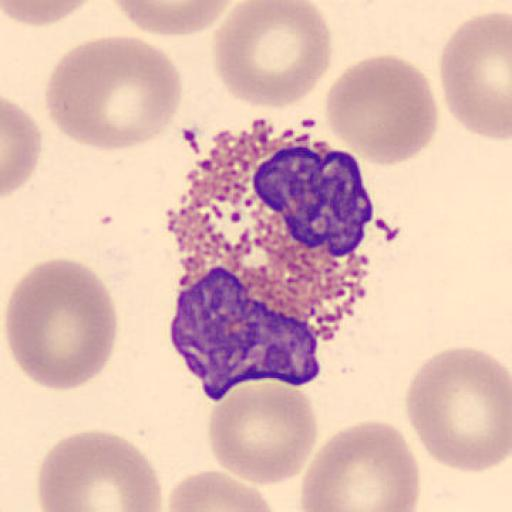RBC: (44, 34, 184, 152), (3, 256, 119, 393), (405, 344, 511, 474), (212, 0, 334, 110), (324, 53, 438, 167), (207, 381, 321, 486), (299, 418, 422, 511), (36, 430, 164, 512), (438, 9, 512, 141), (166, 468, 276, 512), (111, 0, 236, 38), (2, 95, 42, 198), (2, 0, 98, 28)
WBC: (166, 119, 374, 397)
